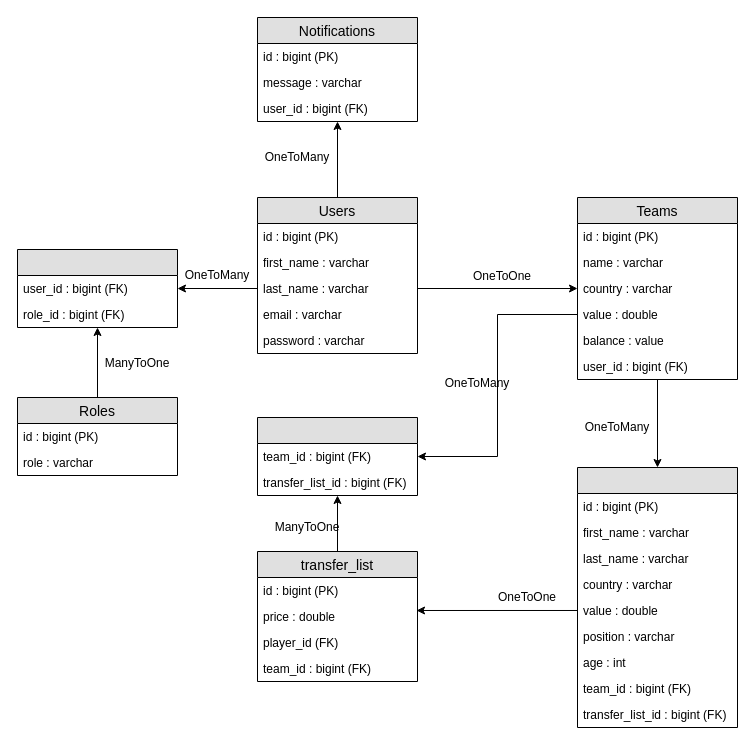
The diagram is 755 pixels wide and 748 high, and some of its shapes have lost their labels. Each missing label, with the box of its shape:
Players: (576, 466, 738, 728)
teams_transfer_list: (256, 416, 418, 496)
user_roles: (16, 248, 178, 328)
